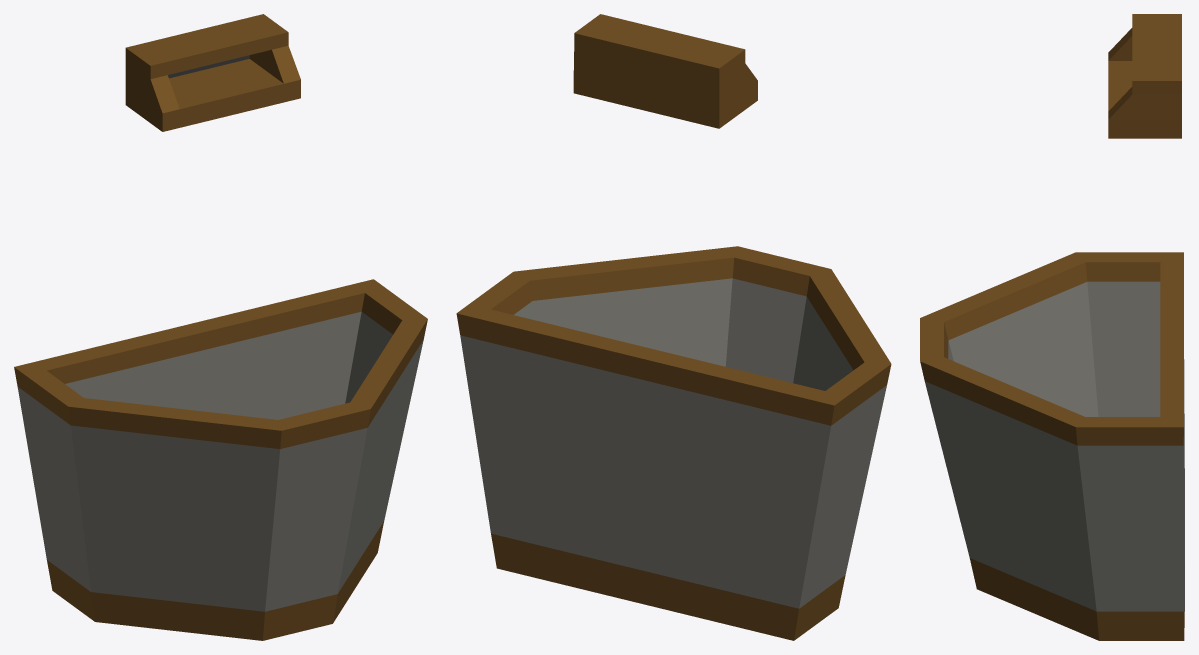
The model's file is fountain.fbx.
3 renders of one model, left to right at view 1: azimuth 30°, elevation 25°; view 2: azimuth 150°, elevation 25°; view 3: azimuth 270°, elevation 25°, orthographic. The views are drawn at different scales.
Visible parts, largest first — view 1: Fountain; view 2: Fountain; view 3: Fountain.
Part boxes in pixels (x1=…): Fountain: x1=14, y1=14, x2=427, y2=640; Fountain: x1=456, y1=14, x2=891, y2=640; Fountain: x1=920, y1=14, x2=1184, y2=640.
Bounding box in the file's own units: 123 × 78.52 × 172.
